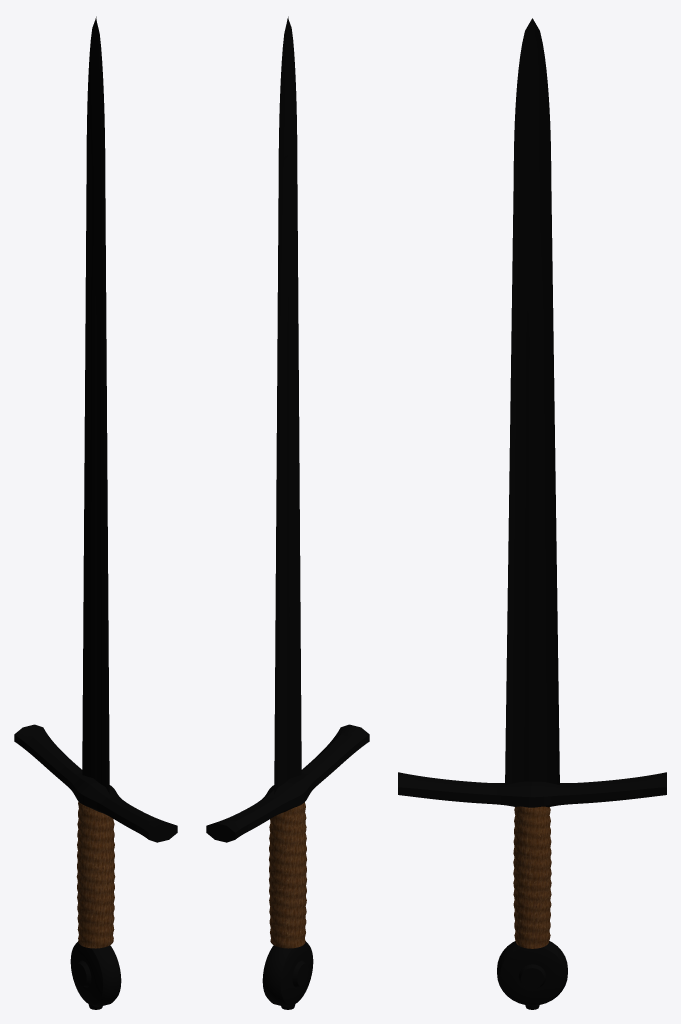
Rendered from sword.glb.
3 views of the same model, side by side, from view 1: azimuth 30°, elevation 25°; view 2: azimuth 150°, elevation 25°; view 3: azimuth 270°, elevation 25° (orthographic).
Visible parts, largest first — view 1: sword; view 2: sword; view 3: sword.
Part boxes in pixels (box(x1,y1,x2,y2)): sword: box(14, 16, 177, 1009); sword: box(206, 16, 369, 1009); sword: box(398, 18, 666, 1009).
Bounding box in the file's own units: 0.035 × 0.995 × 0.244.
Materials: 3 (3 with a texture image).
